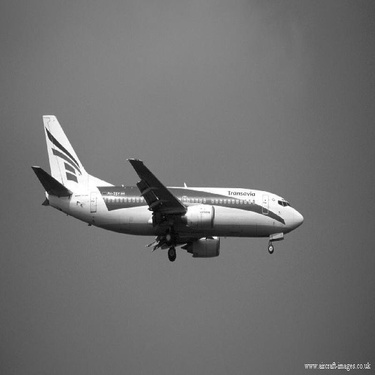airplane: (21, 102, 311, 263)
